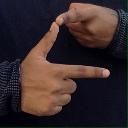hand: (18, 20, 110, 116), (55, 2, 118, 48)
